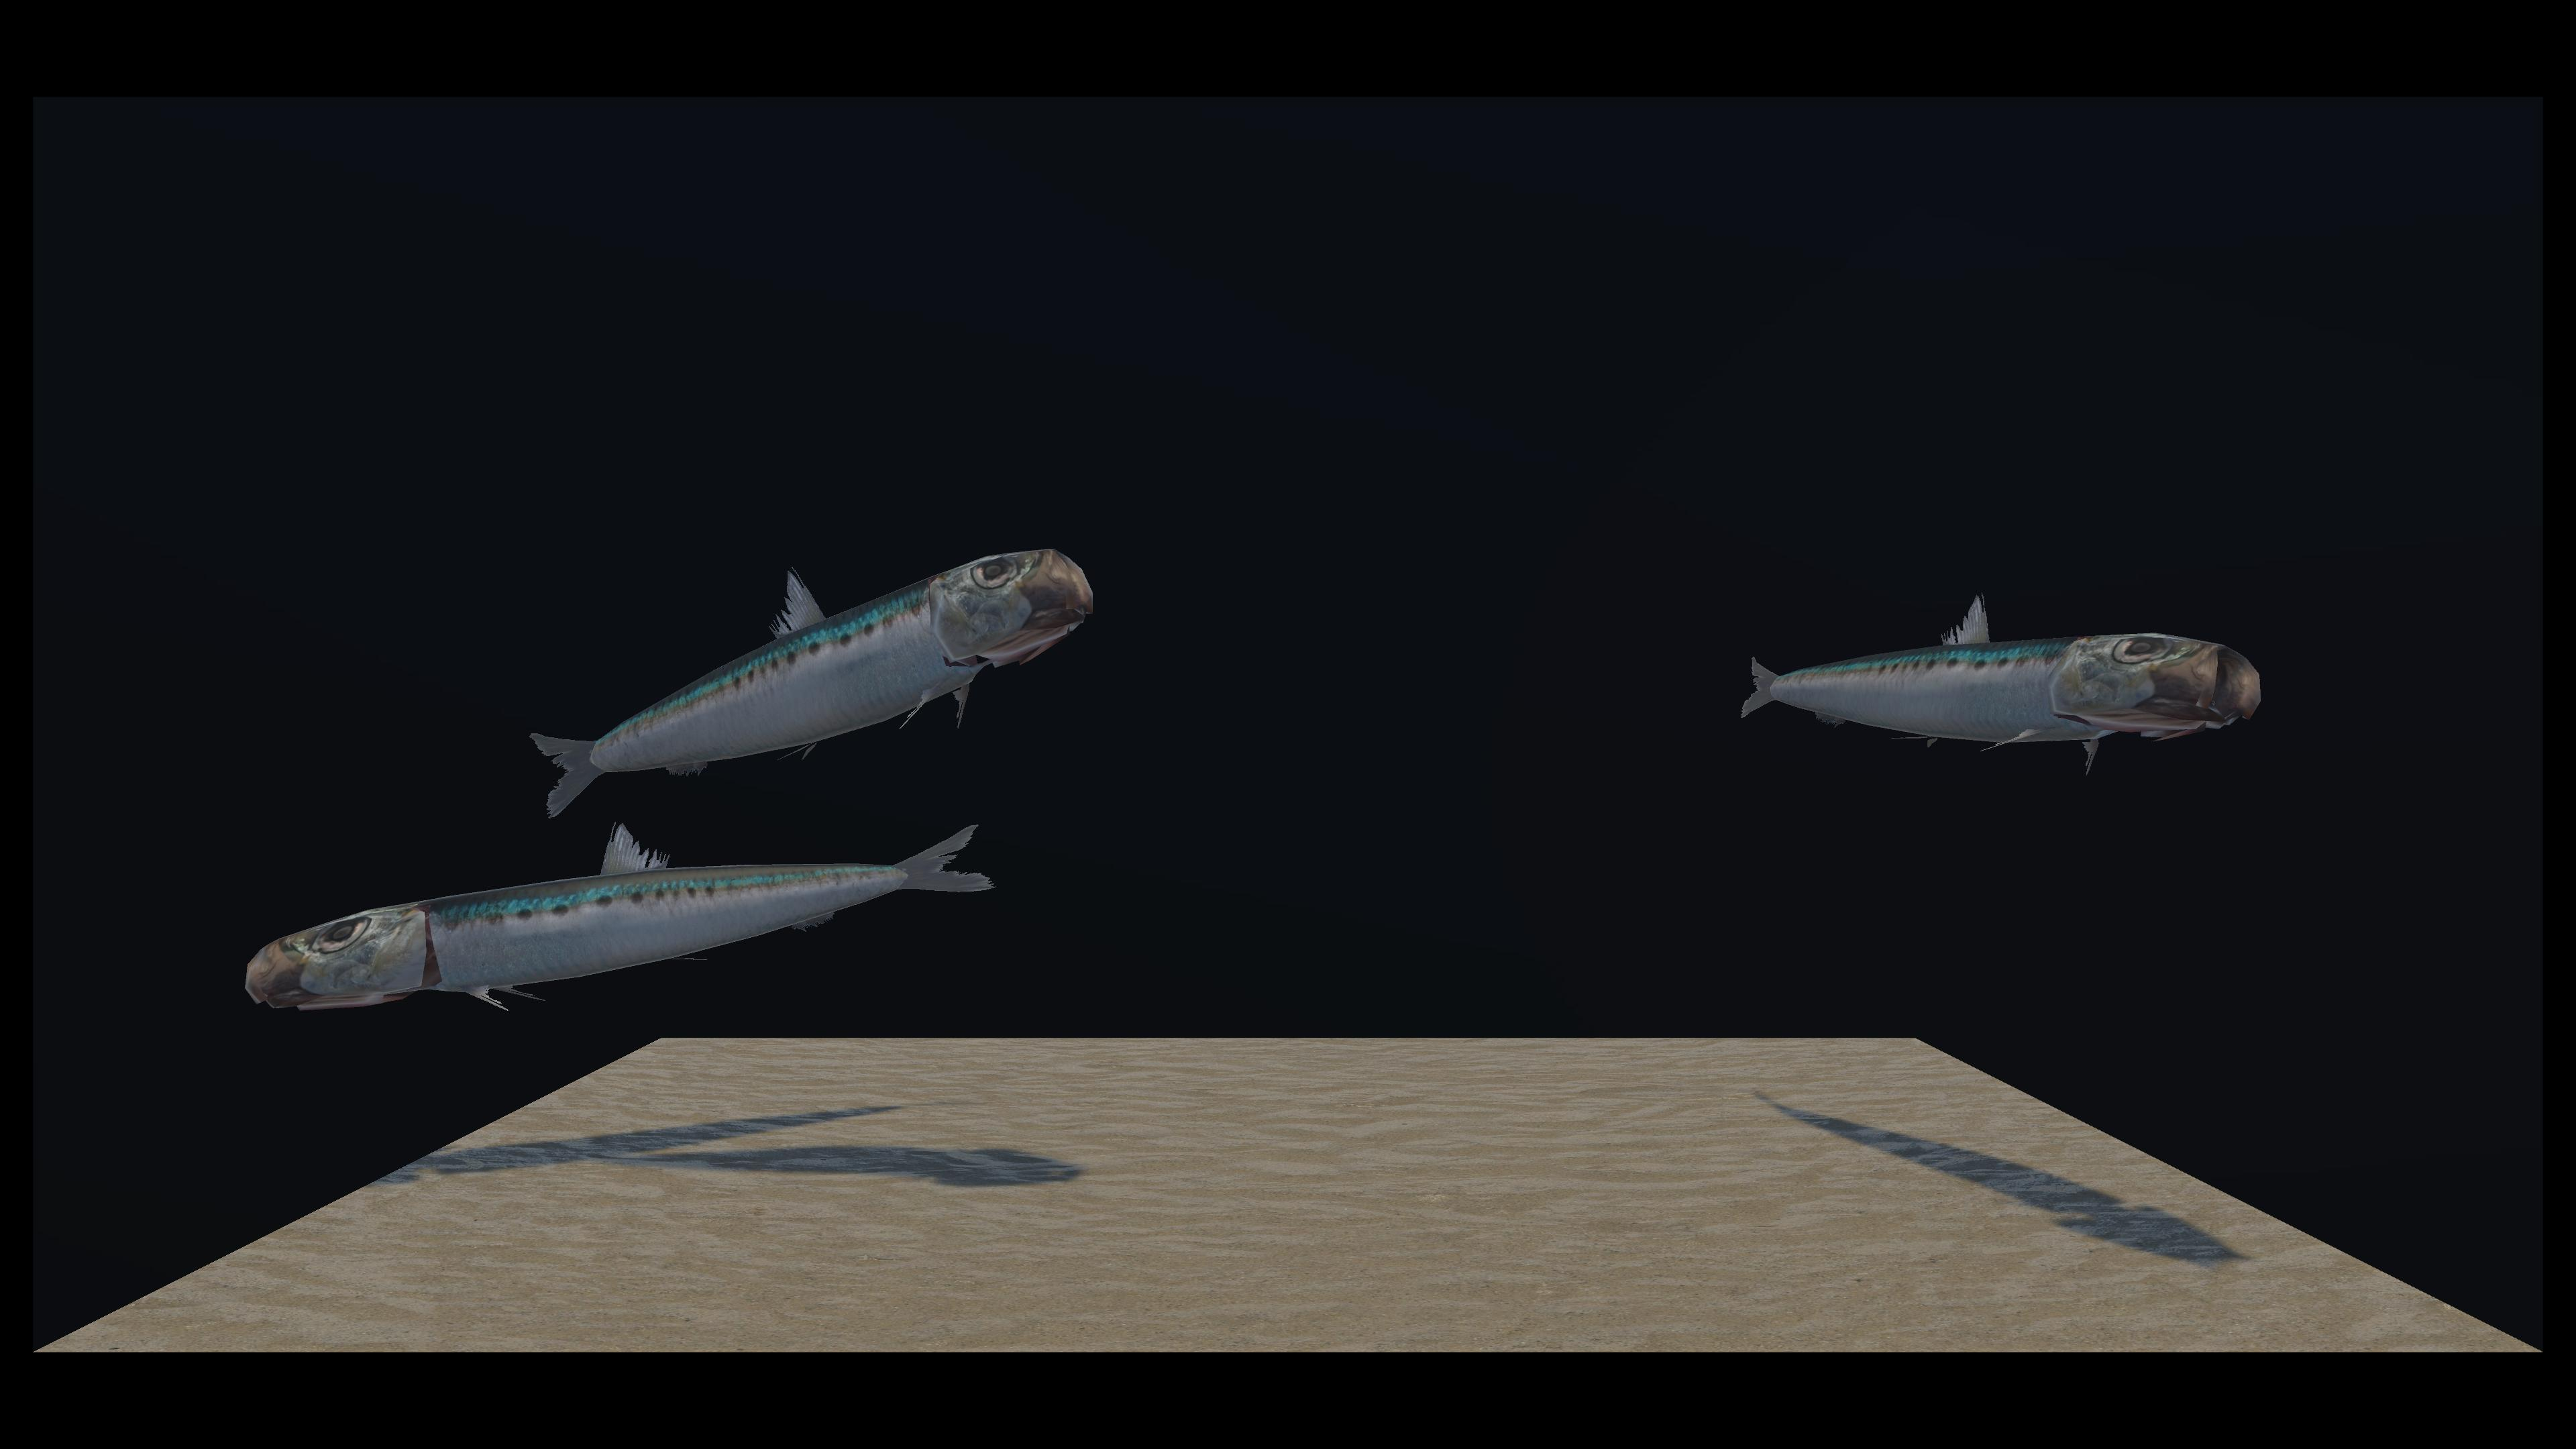Sardine_Front: (782, 336, 2220, 786), (283, 336, 984, 1023), (531, 522, 1049, 816)
